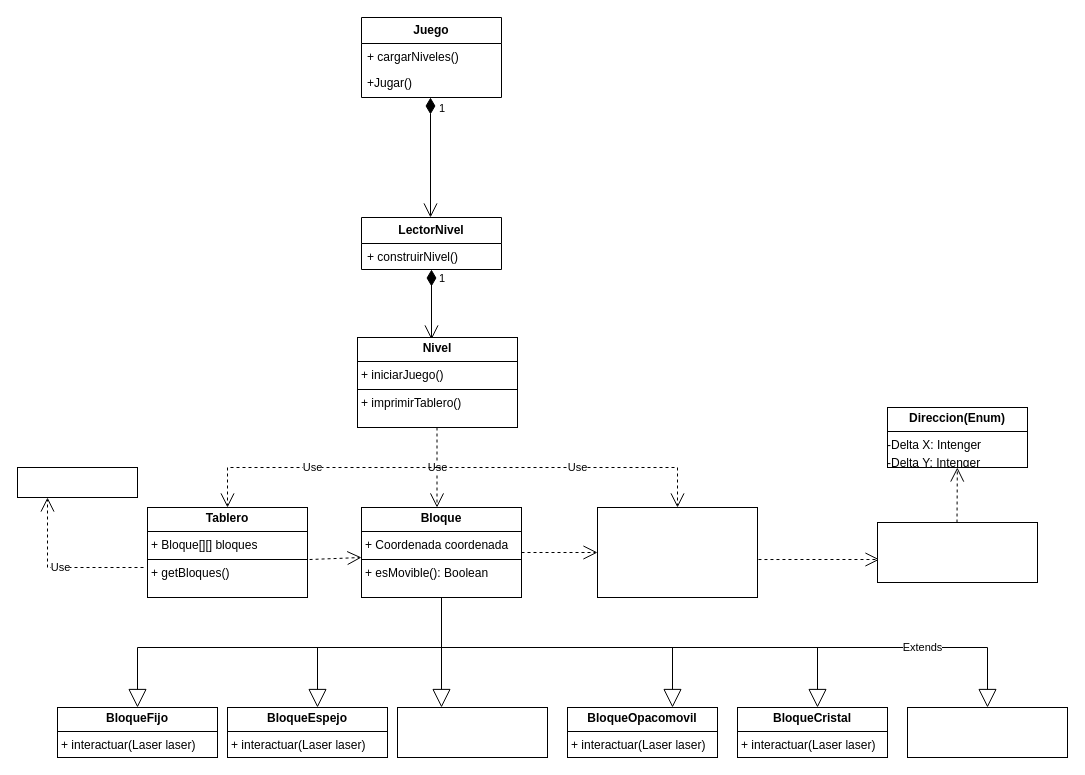
Image size: 1085x775. Some labels were removed from this diagram. Here are the shapes that lost their labels. From the top down, the centre of each, then its label:
At pixel 77 482: "Lado(Enum)".
At pixel 677 552: "Laser + Direccion direccion + mover():".
At pixel 957 552: "Coordenada - X : Intenger - Y : Intenger + method(): Type".
At pixel 472 732: "BloqueOpacoFijo + interactuar(Laser laser) + method(): Type".
At pixel 987 732: "BloqueEspejo + interactuar(Laser laser)".
